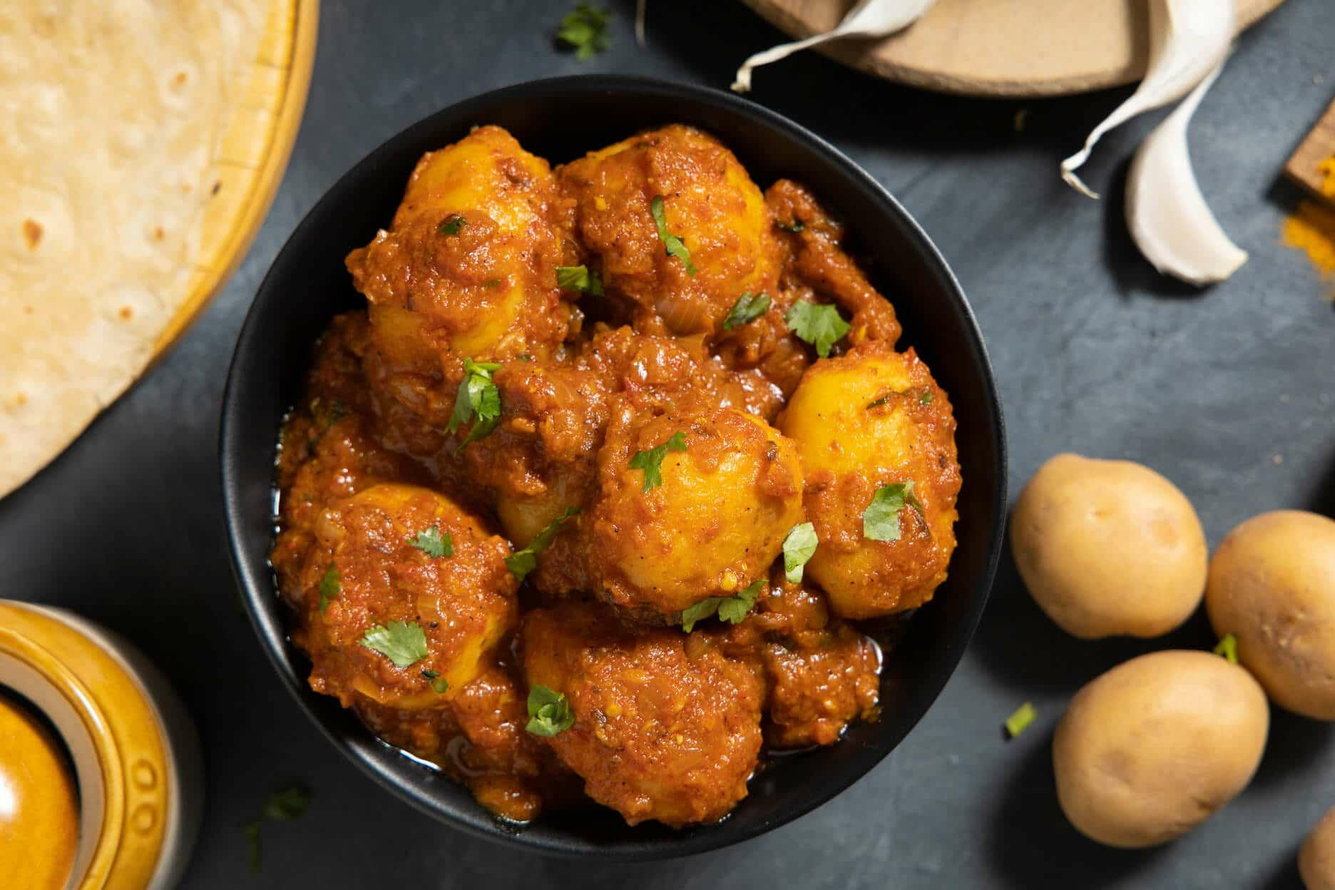DumAloo: (256, 120, 970, 836)
